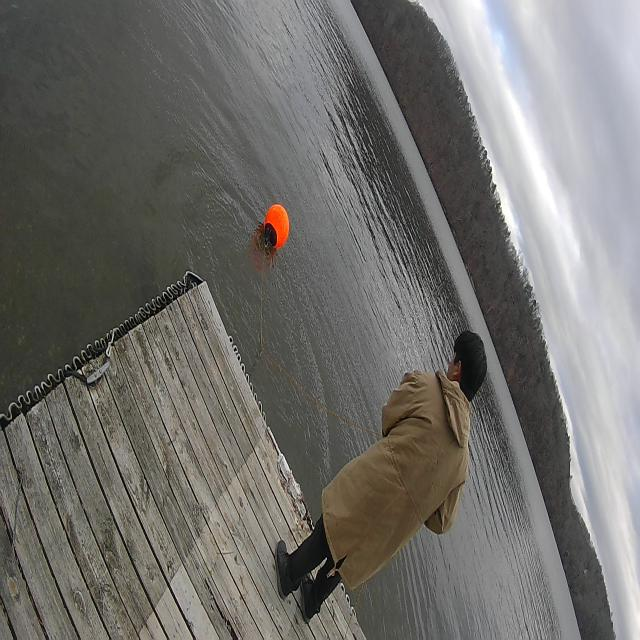Buoy: (260, 196, 294, 258)
